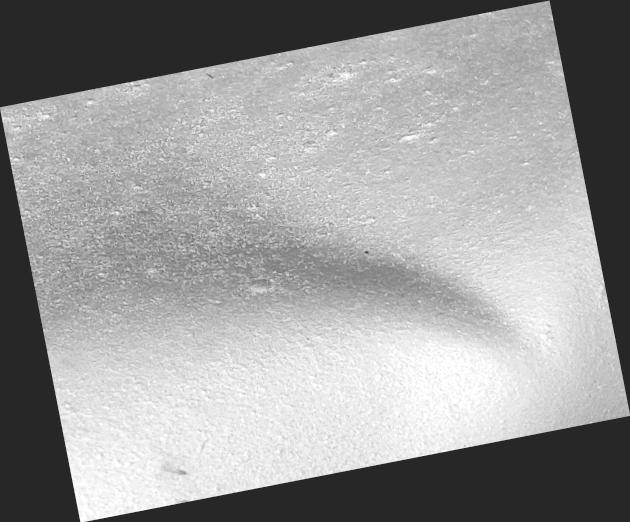dent: (1, 0, 630, 522)
